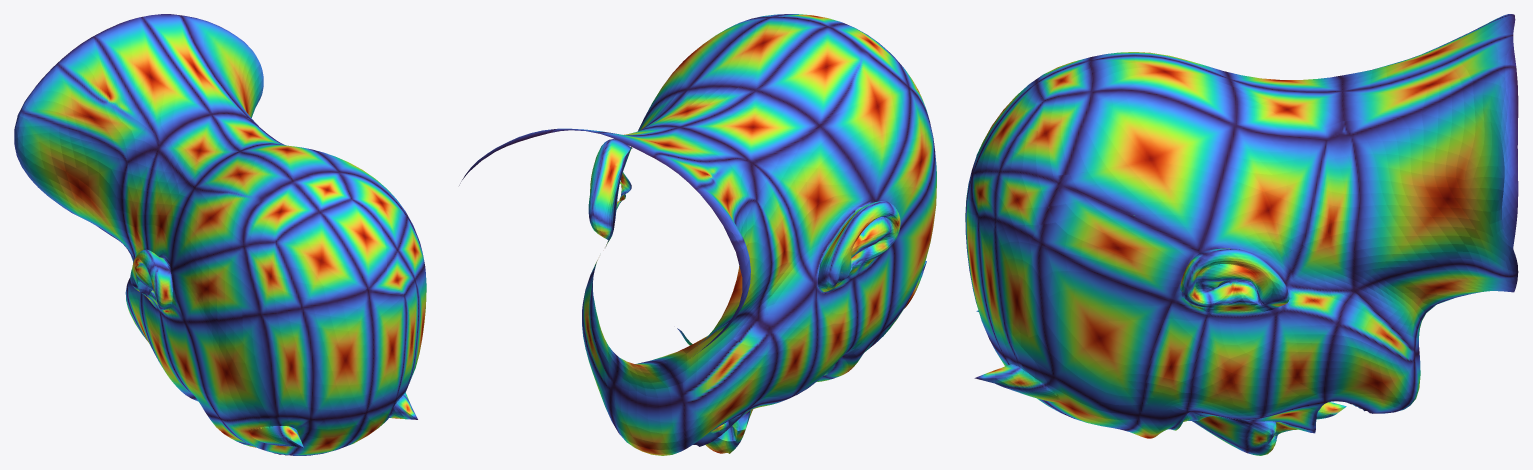
Rendered from gen1.glb.
3 renders of one model, left to right at view 1: azimuth 30°, elevation 25°; view 2: azimuth 150°, elevation 25°; view 3: azimuth 270°, elevation 25°, orthographic. The views are drawn at different scales.
Parts seen in each view (by area): view 1: Node; view 2: Node; view 3: Node.
Part boxes in pixels (x1,y1,x2,y2): Node: (14, 14, 426, 455); Node: (459, 14, 936, 455); Node: (965, 14, 1518, 455).
Bounding box in the file's own units: 25.03 × 33.47 × 40.
Materials: 1 (1 with a texture image).
